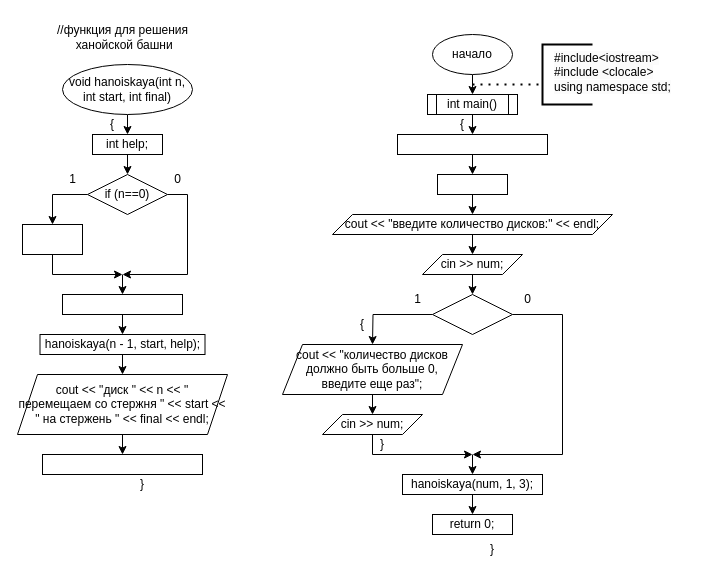
Image size: 710x576. Some labels were removed from this diagram. The box of each missing label's shape, as (x1, y1, x2, y2) in pixels:
hanoiskaya(n - 1, help, final);: (42, 454, 202, 474)
help = 6 - start - final;: (62, 294, 182, 314)
if (num <= 0): (432, 294, 512, 334)
int num;: (436, 174, 508, 194)
return;: (22, 224, 82, 254)
setlocale(LC_ALL, "RUS");: (396, 134, 548, 154)
